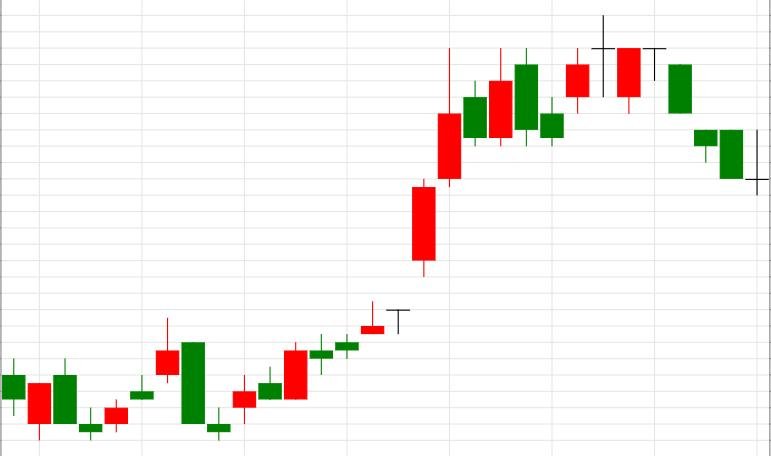shooting_star_fall: (79, 318, 179, 441)
